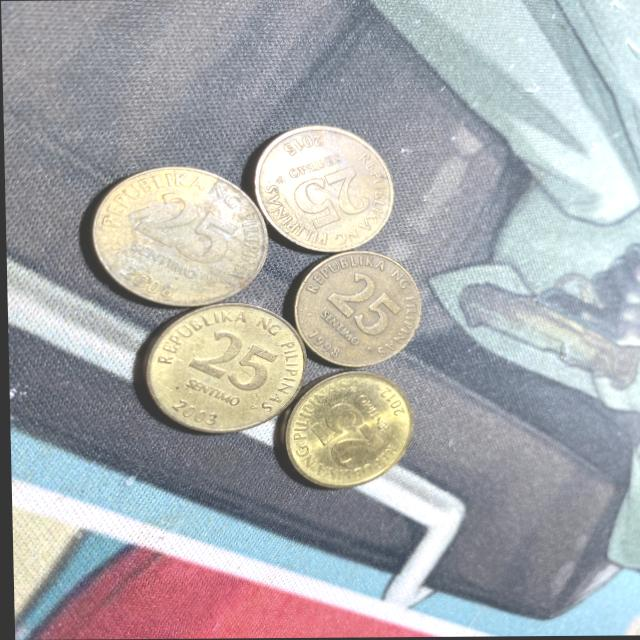25Cent_Old_Front: (137, 190, 233, 266), (189, 328, 276, 393), (325, 270, 400, 337), (291, 168, 370, 229), (309, 401, 375, 464)
